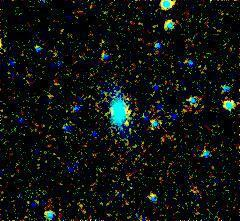star: (111, 109, 141, 139)
